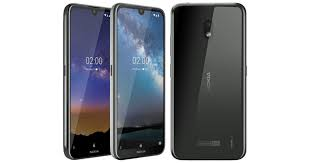nokia: (168, 1, 247, 161), (110, 2, 164, 163), (60, 1, 109, 161)
